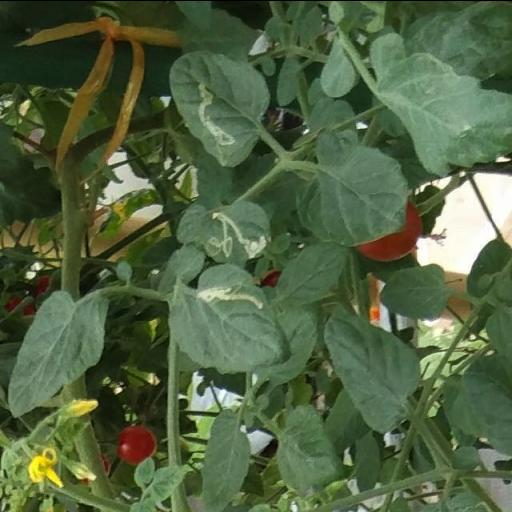disease_tomato: (164, 260, 292, 368), (168, 51, 272, 169), (196, 198, 272, 266)
